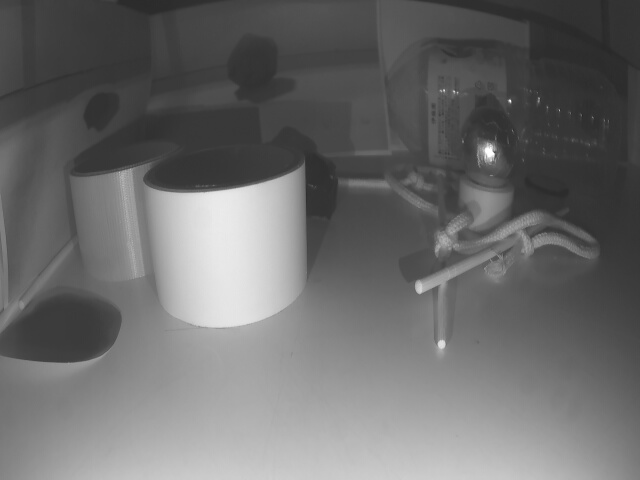Dead: (306, 159, 335, 213)
Live: (457, 105, 512, 184)
